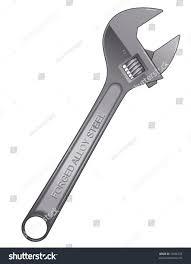wrench: (24, 6, 181, 232)
